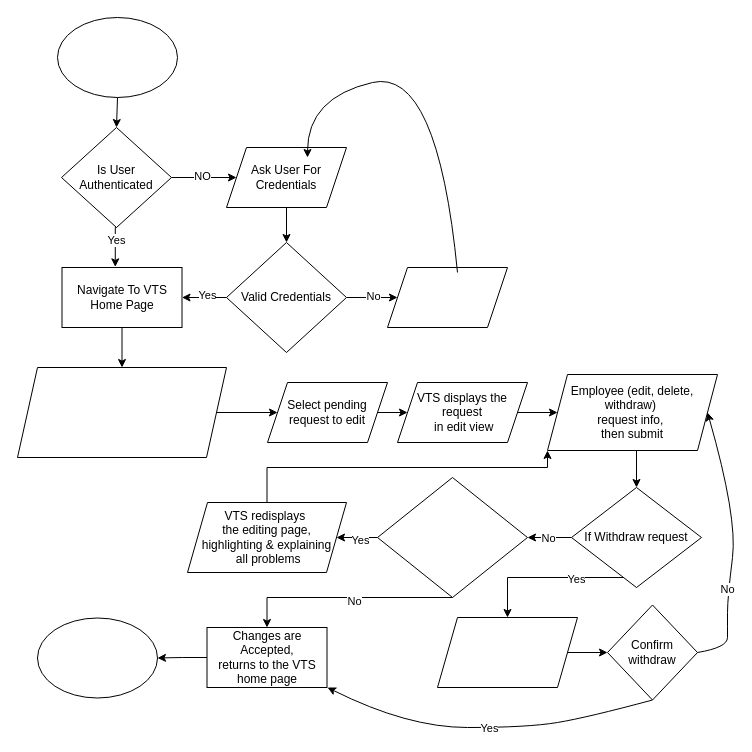
The diagram is 752 pixels wide and 752 high, and some of its shapes have lost their labels. Here are the shapes that lost their labels. From the top down, the box of each, then its label:
(56, 16, 178, 98): Start
(386, 266, 508, 328): Display Invalid Credentials
(16, 366, 226, 458): Display Vacations Summary from past 6 months and up to 18 months next
(376, 476, 528, 598): If changes made contains errors or problems.
(36, 617, 158, 698): END
(436, 616, 578, 688): VTS displays confirmation before withdrawing request
